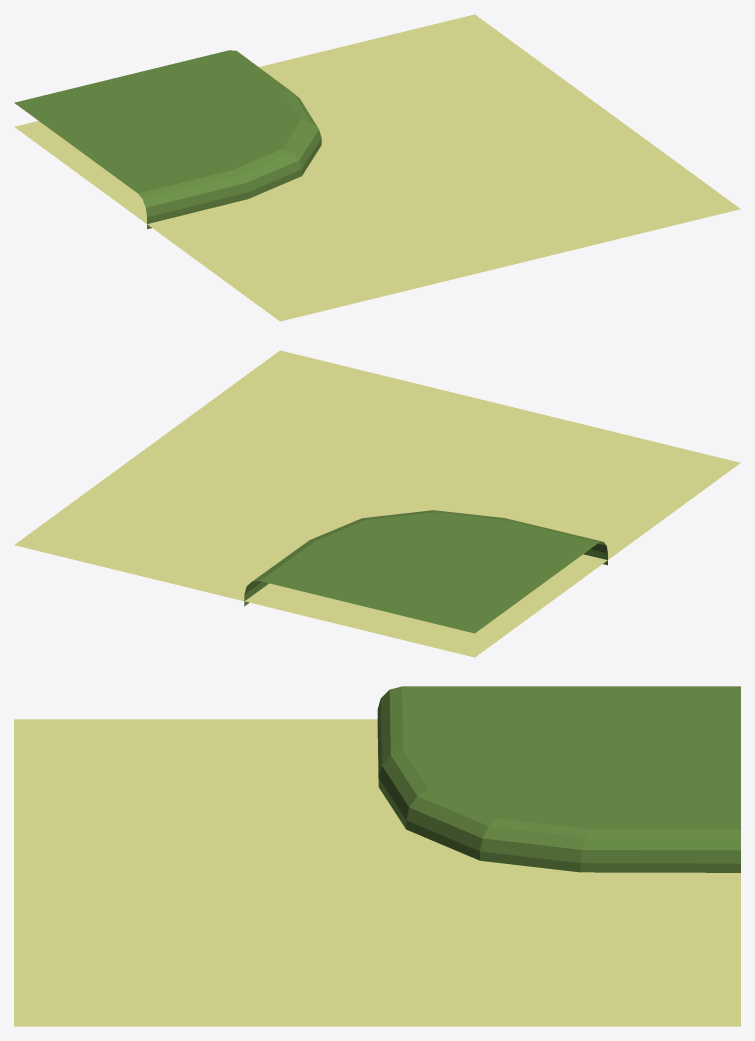
The model's file is grass_sand_outer_corner.fbx.
The picture shows the model from 3 angles, top to bottom: view 1: azimuth 30°, elevation 25°; view 2: azimuth 150°, elevation 25°; view 3: azimuth 270°, elevation 25°; orthographic projection. The views are drawn at different scales.
Parts seen in each view (by area): view 1: Cube.061; view 2: Cube.061; view 3: Cube.061.
Part boxes in pixels (<box>): Cube.061: <box>14,14,740,321</box>; Cube.061: <box>14,350,740,657</box>; Cube.061: <box>14,686,740,1026</box>.
Bounding box in the file's own units: 200 × 200 × 12.12.
